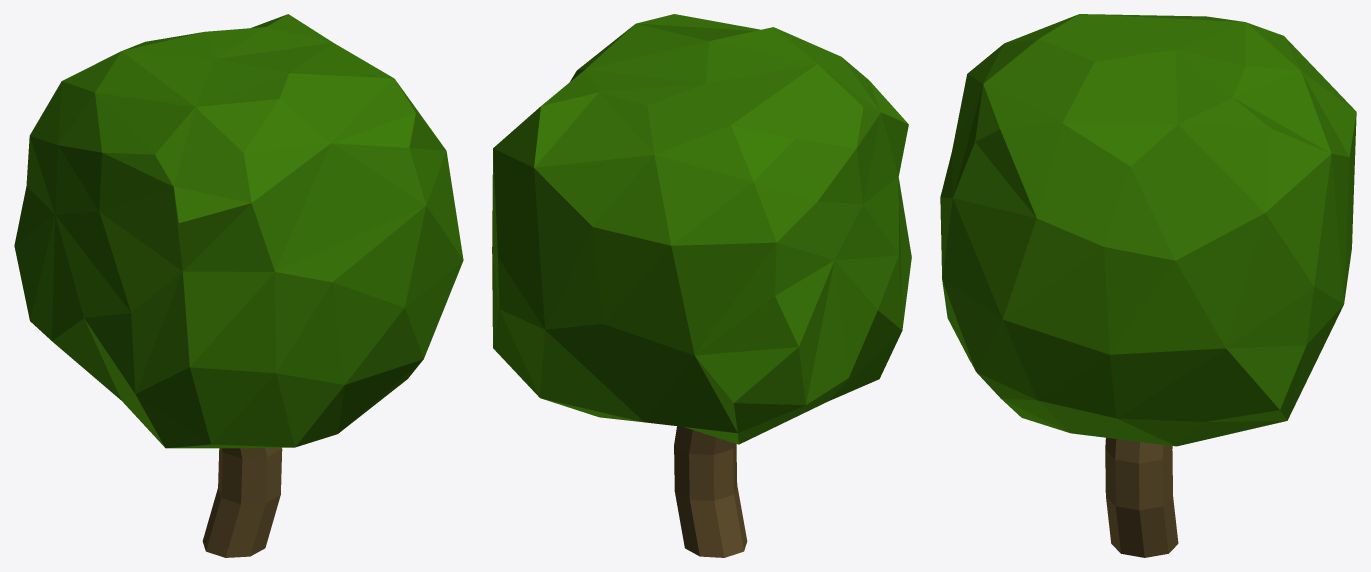
Rendered from Bush1.gltf.
The picture shows the model from 3 angles, left to right: view 1: azimuth 30°, elevation 25°; view 2: azimuth 150°, elevation 25°; view 3: azimuth 270°, elevation 25°; orthographic projection. The views are drawn at different scales.
Parts seen in each view (by area): view 1: Bush, Stick; view 2: Bush, Stick; view 3: Bush, Stick.
Boxes of the visible parts, x1,y1,x2,y2 form: Bush: (14, 14, 463, 448); Stick: (202, 447, 282, 557); Bush: (492, 14, 911, 444); Stick: (674, 426, 747, 557); Bush: (940, 14, 1356, 446); Stick: (1105, 437, 1178, 557).
Bounding box in the file's own units: 1.37 × 1.84 × 1.39.
